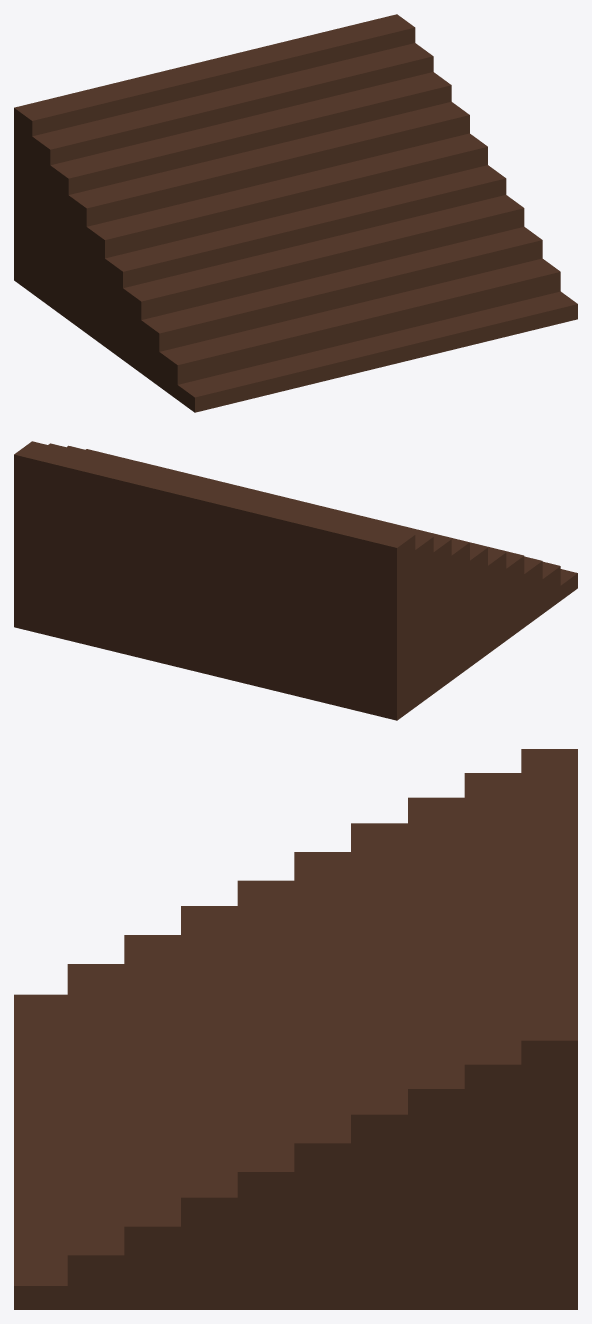
File: Bleachers.fbx
3 renders of one model, top to bottom at view 1: azimuth 30°, elevation 25°; view 2: azimuth 150°, elevation 25°; view 3: azimuth 270°, elevation 25°, orthographic. The views are drawn at different scales.
Parts seen in each view (by area): view 1: Cube; view 2: Cube; view 3: Cube.
Boxes of the visible parts, x1,y1,x2,y2 form: Cube: [14, 14, 577, 412]; Cube: [14, 441, 577, 720]; Cube: [14, 749, 577, 1309].
Size of the model in its own units: 2574 by 1109 by 2105.
